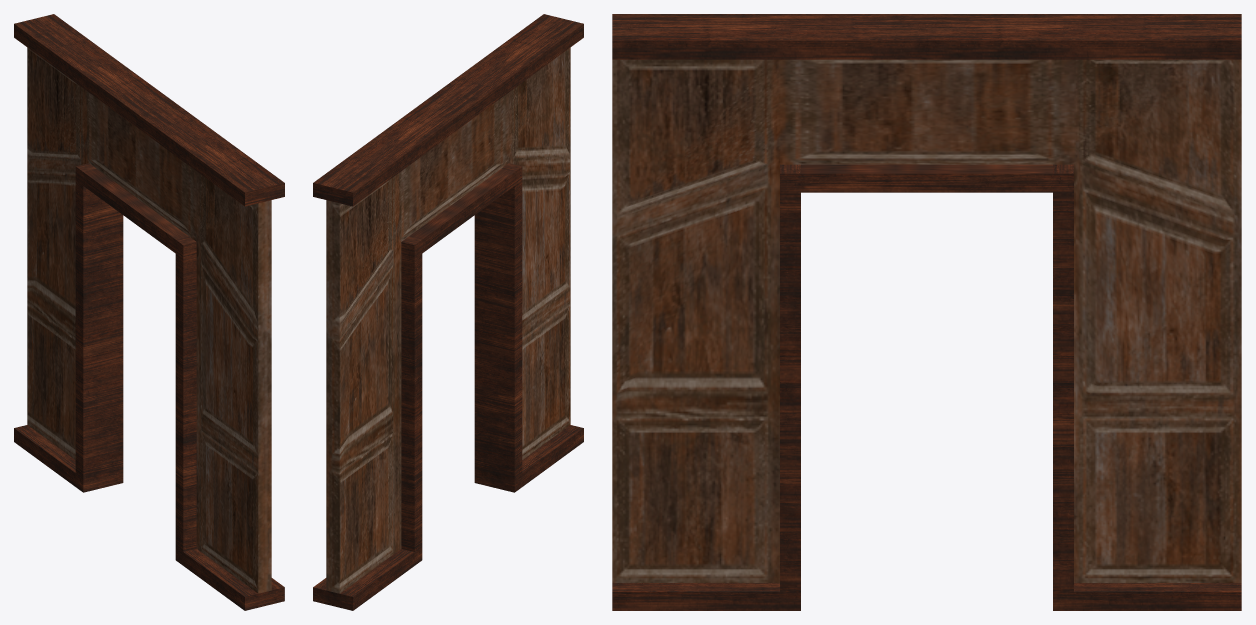
File: Doorway_Final.fbx
3 views of the same model, side by side, from view 1: azimuth 30°, elevation 25°; view 2: azimuth 150°, elevation 25°; view 3: azimuth 270°, elevation 25° (orthographic). The views are drawn at different scales.
Visible parts, largest first — view 1: polySurface8; view 2: polySurface8; view 3: polySurface8.
Boxes of the visible parts, box(x1,y1,x2,y2) form: polySurface8: box(14, 14, 284, 610); polySurface8: box(313, 14, 583, 610); polySurface8: box(612, 14, 1241, 610).
Bounding box in the file's own units: 30 × 300 × 300.
2 materials, 2 textured.
